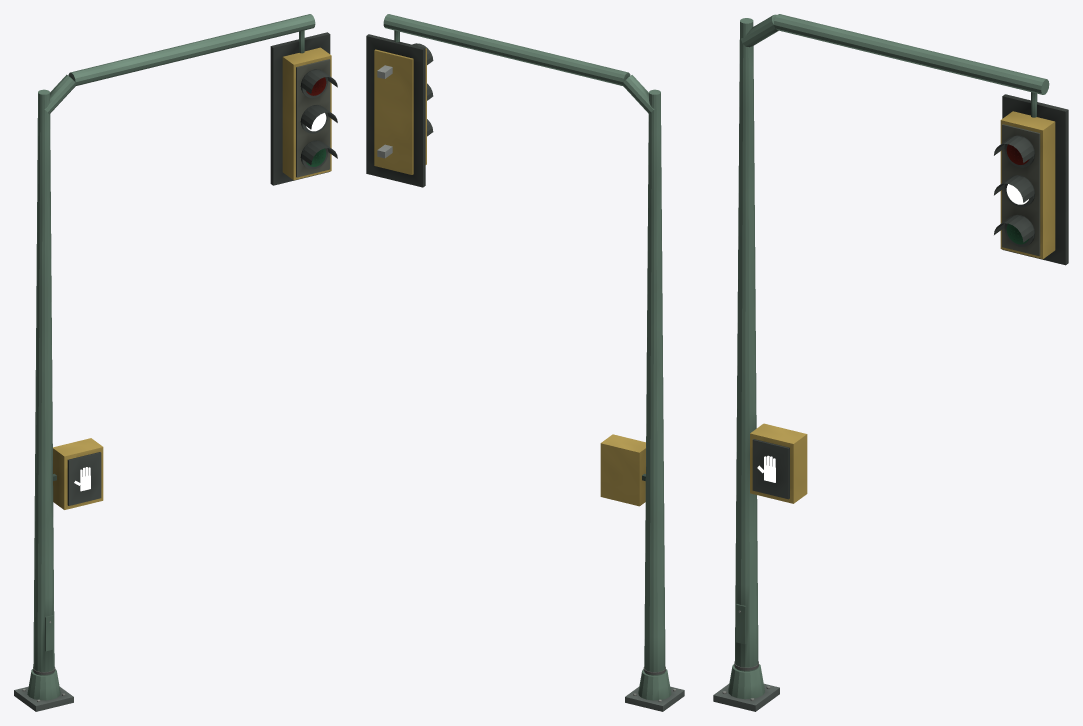
File: signal-amber.glb
3 views of the same model, side by side, from view 1: azimuth 30°, elevation 25°; view 2: azimuth 150°, elevation 25°; view 3: azimuth 330°, elevation 25° (orthographic). The views are drawn at different scales.
Parts seen in each view (by area): view 1: signal; view 2: signal; view 3: signal.
Part boxes in pixels (box(x1,y1,x2,y2)): signal: box(14, 14, 337, 711); signal: box(366, 14, 684, 711); signal: box(713, 14, 1068, 711).
Size of the model in its own units: 2.74 by 5.31 by 0.605.
